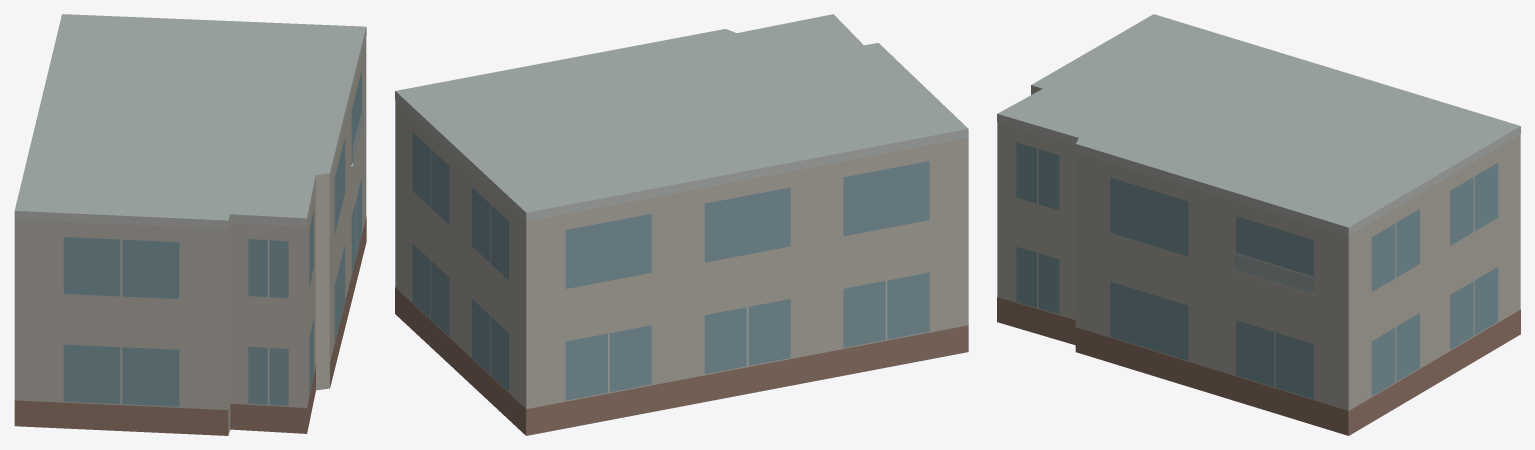
Rendered from survey-upis-32926037.glb.
The picture shows the model from 3 angles, left to right: view 1: azimuth 30°, elevation 25°; view 2: azimuth 150°, elevation 25°; view 3: azimuth 270°, elevation 25°; orthographic projection. The views are drawn at different scales.
Parts seen in each view (by area): view 1: survey-upis-32926037.tmp; view 2: survey-upis-32926037.tmp; view 3: survey-upis-32926037.tmp.
Part boxes in pixels (left/top/right/bottom): survey-upis-32926037.tmp: left=14, top=14, right=366, bottom=435; survey-upis-32926037.tmp: left=395, top=14, right=968, bottom=435; survey-upis-32926037.tmp: left=997, top=14, right=1520, bottom=435.
Size of the model in its own units: 13.43 by 6.1 by 13.91.
